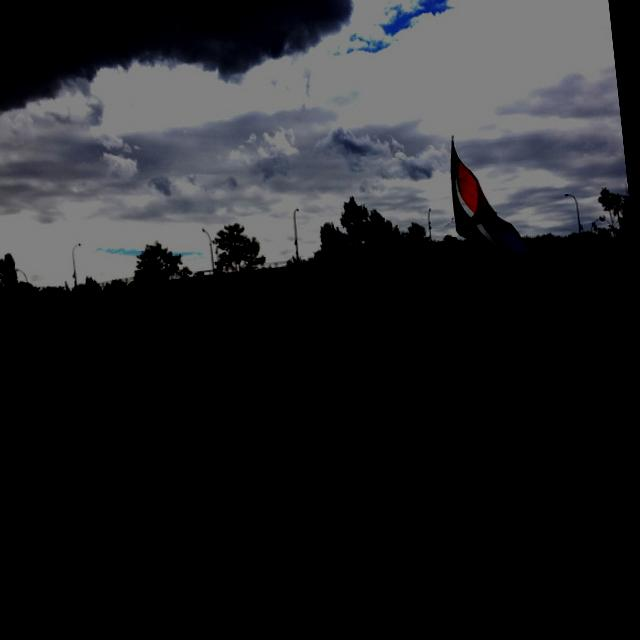Vehicle: (0, 293, 43, 318)
